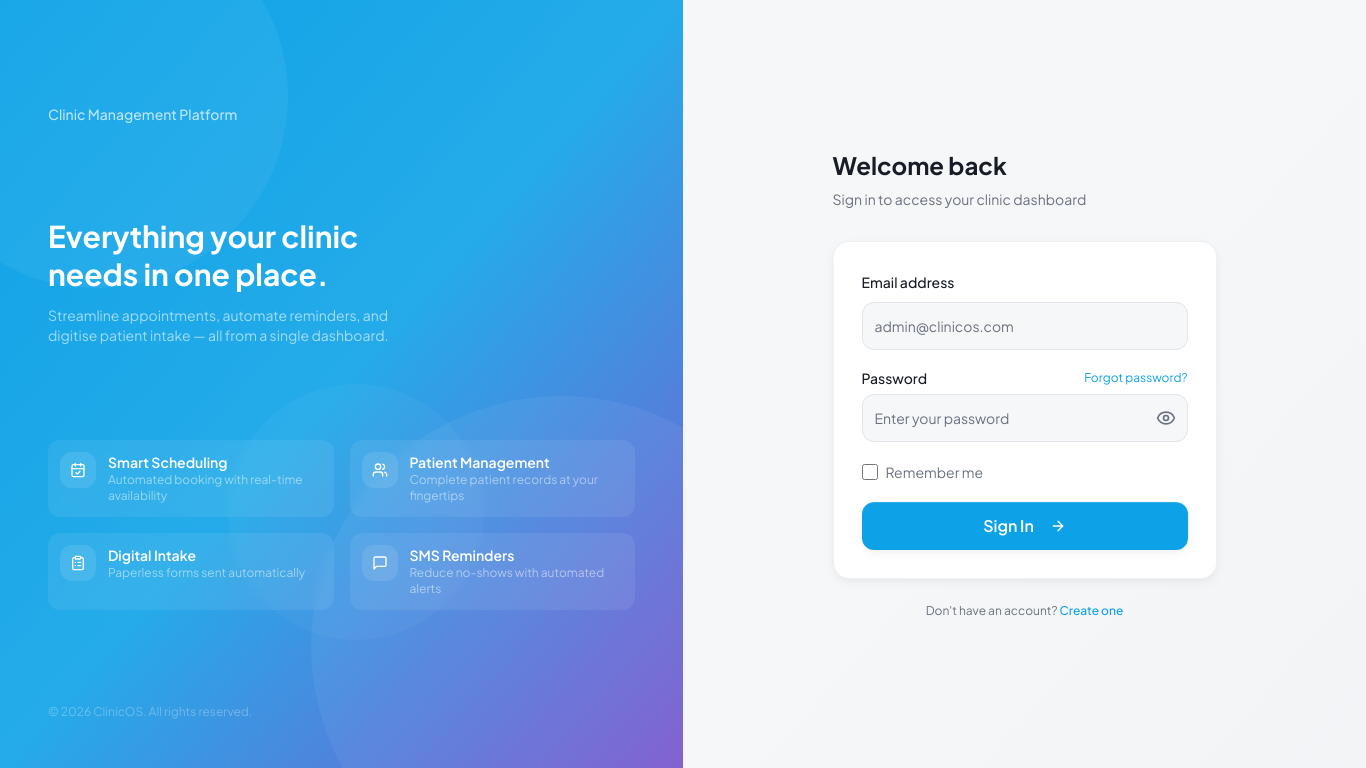
Test: Login › shows a visible error when login credentials are invalid
Type "jane@example.com" into the field labelled "Email address".
click(1024, 326); type("jane@example.com")  # box [862,302,1188,350]
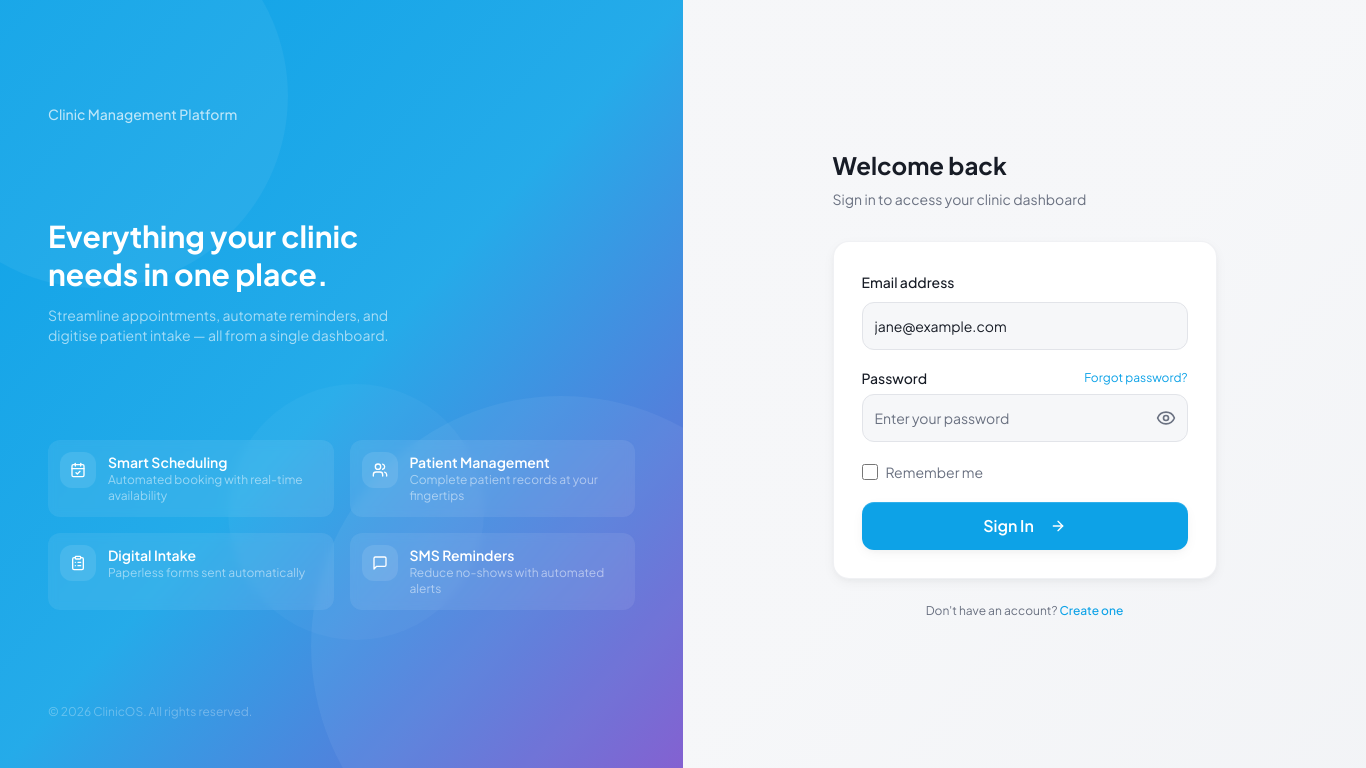
Type "somepass" into the password field labelled "Password".
click(1024, 418); type("somepass")  # box [862,394,1188,442]
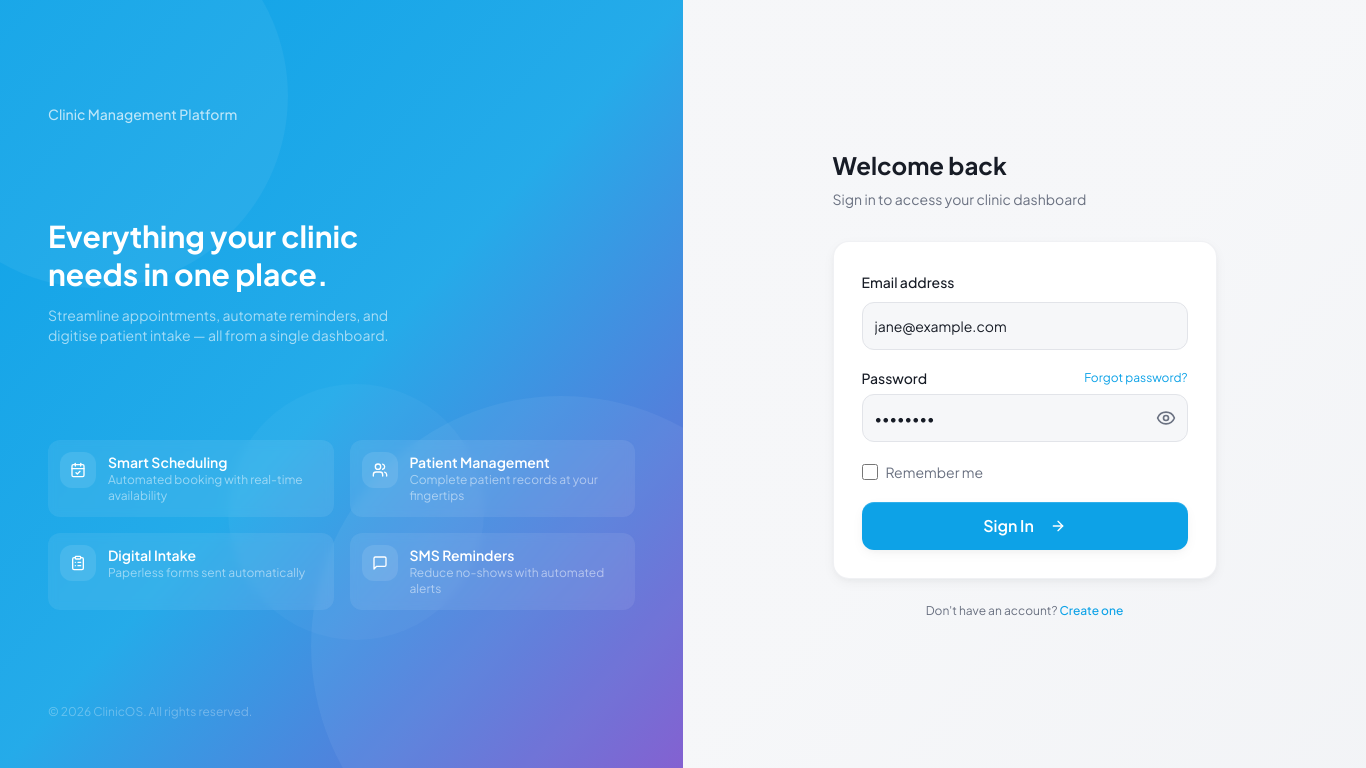
Click the button "Sign In".
click(1024, 526)  # box [862,502,1188,550]
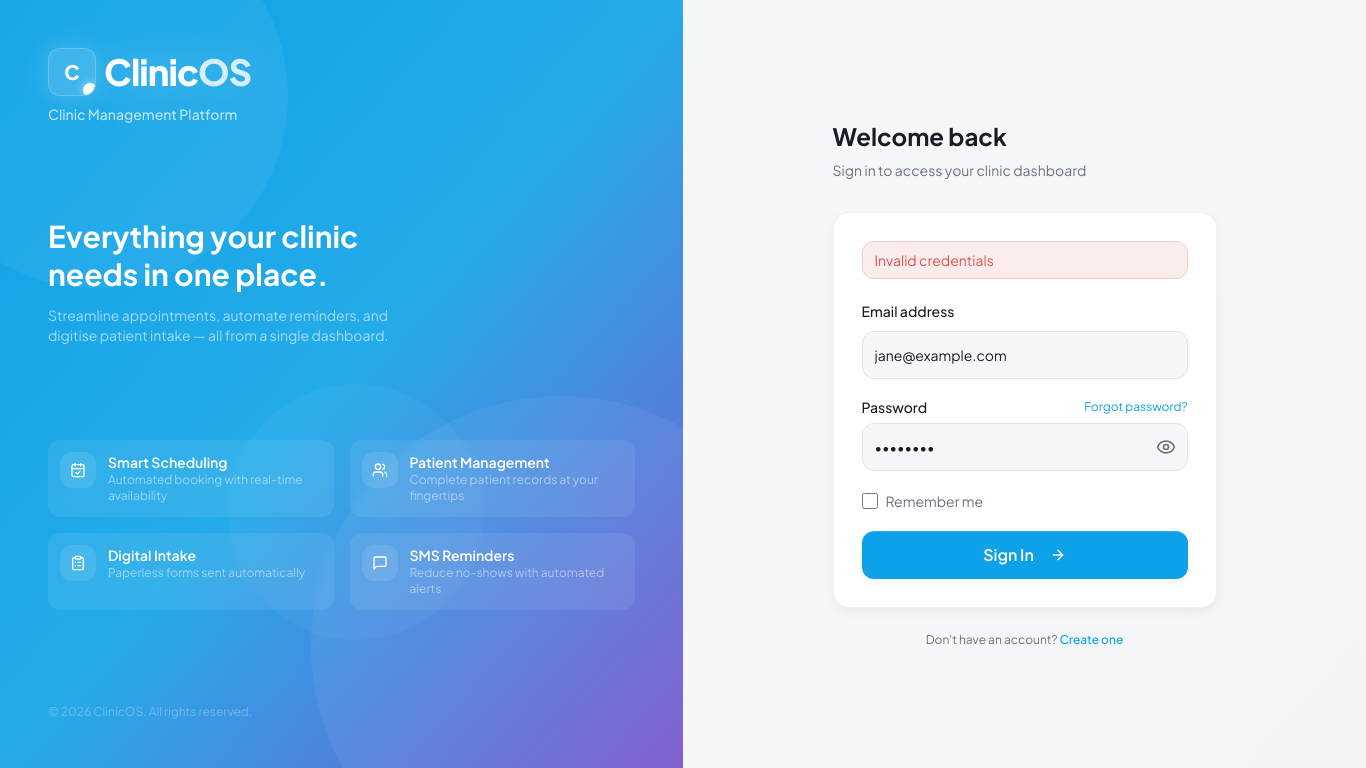
Now the message reads "Invalid credentials", box [874,251,994,269]
